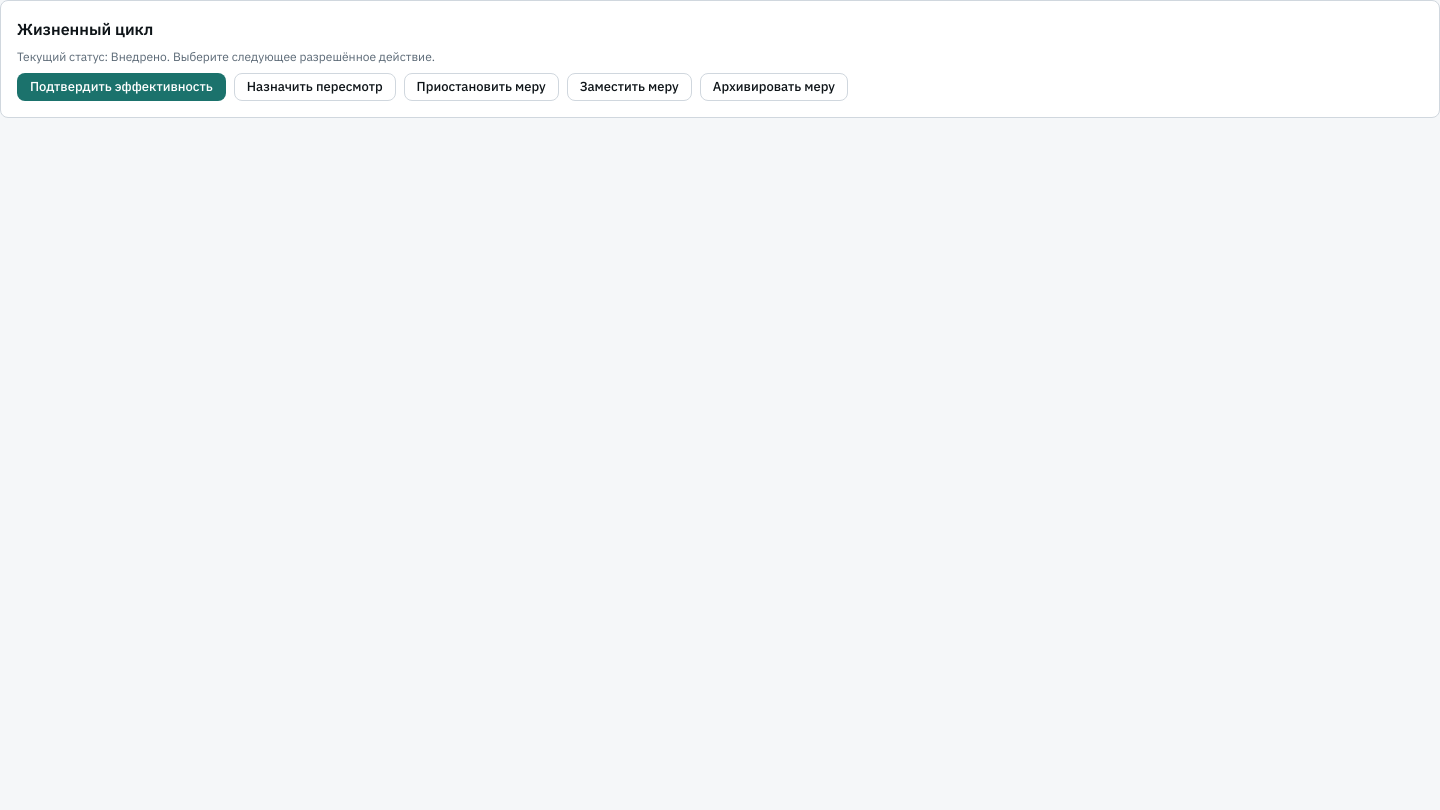
Test case: RiskControlLifecycleActions › requires a reason before confirming suspend
Click the button "Приостановить меру" at {"x": 481, "y": 87}, box [404,73,559,101]
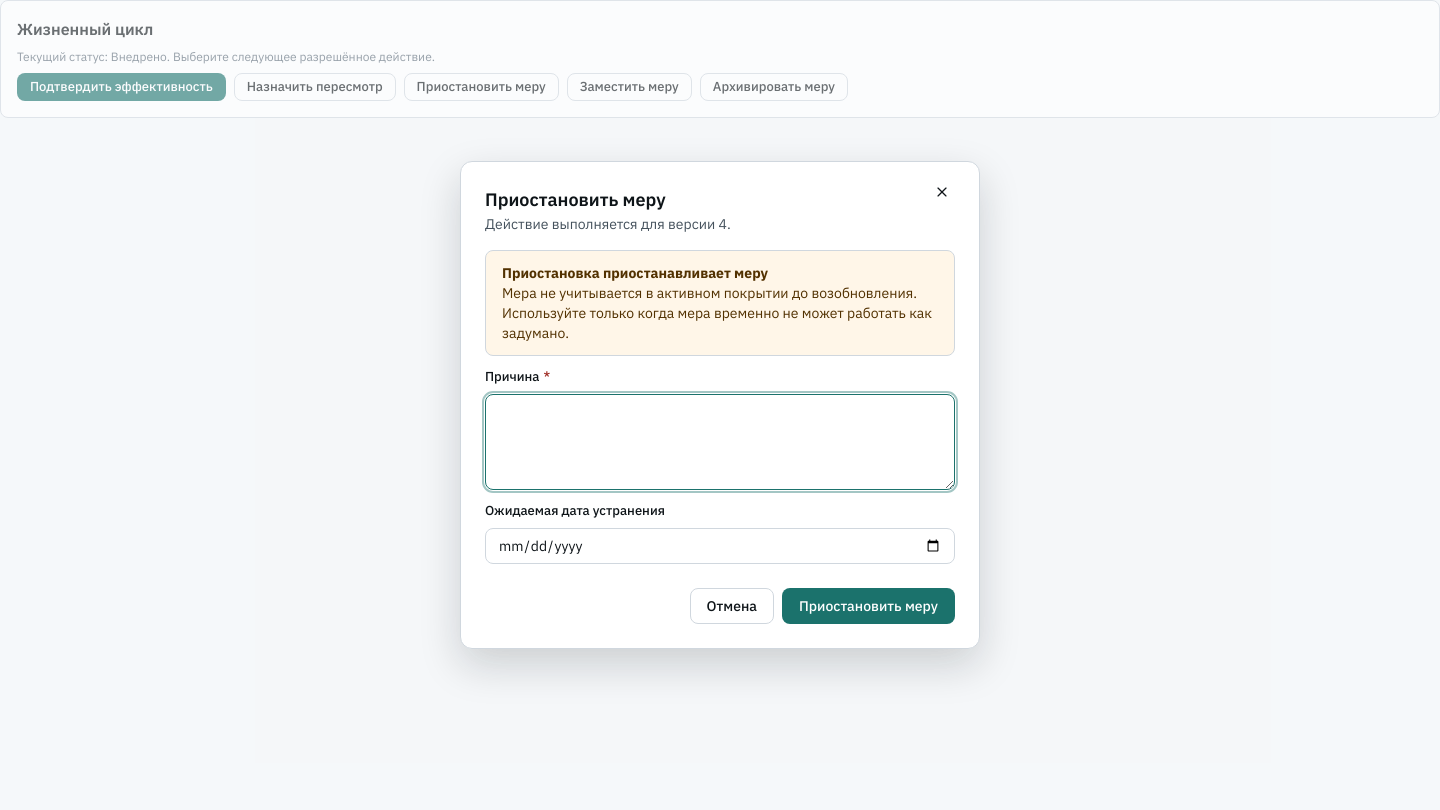
Click the button "Приостановить меру" at {"x": 868, "y": 606}, box [782,588,955,624]
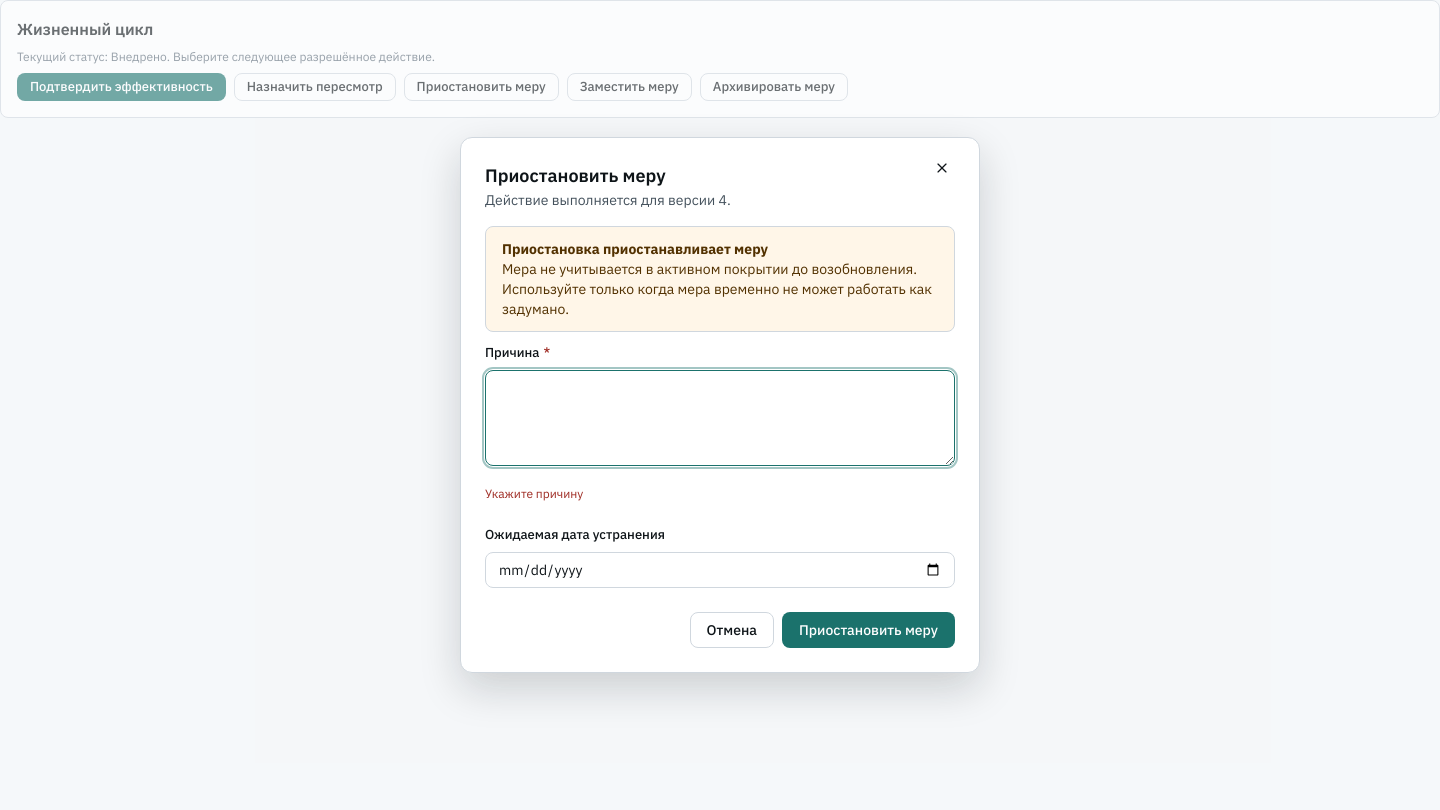
Now the text "Укажите причину" is shown, box [485,486,583,501]
